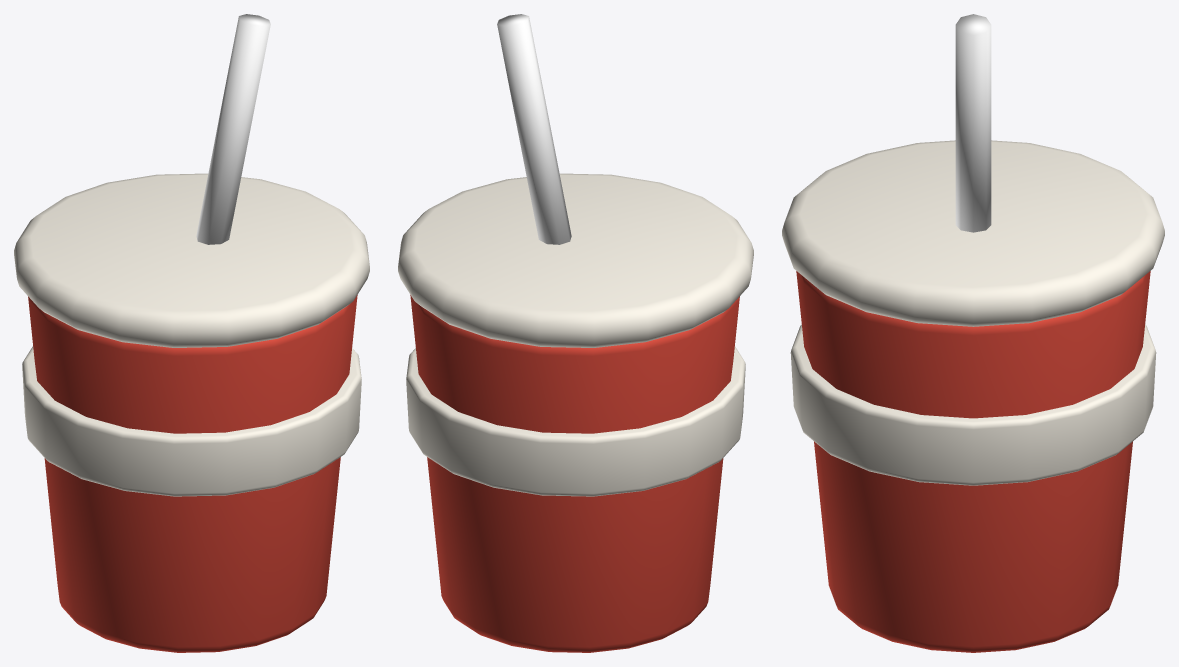
The model's file is food_soda.glb.
3 views of the same model, side by side, from view 1: azimuth 30°, elevation 25°; view 2: azimuth 150°, elevation 25°; view 3: azimuth 270°, elevation 25° (orthographic). The views are drawn at different scales.
Visible parts, largest first — view 1: soda; view 2: soda; view 3: soda.
Part boxes in pixels (x1=…): soda: x1=14, y1=14, x2=369, y2=652; soda: x1=398, y1=14, x2=753, y2=652; soda: x1=782, y1=14, x2=1164, y2=652.
Bounding box in the file's own units: 0.32 × 0.5605 × 0.32.
